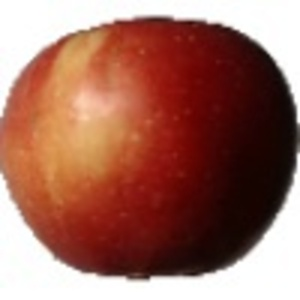maçã braeburn: (1, 12, 299, 291)
